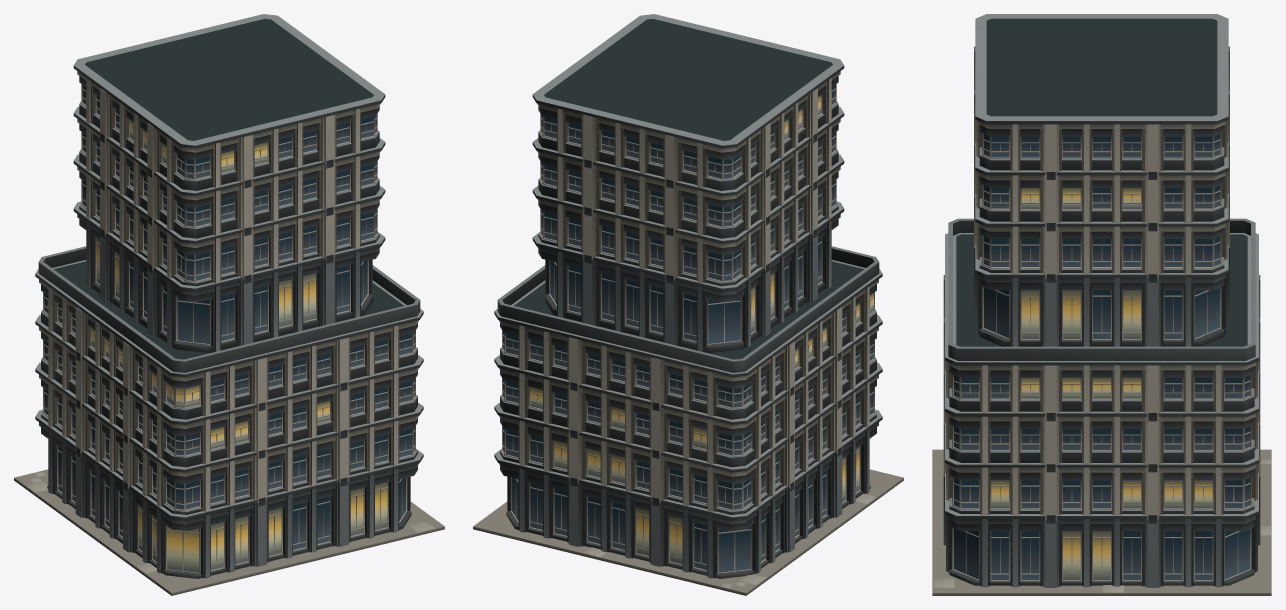
The model's file is Building_14D.fbx.
3 renders of one model, left to right at view 1: azimuth 30°, elevation 25°; view 2: azimuth 150°, elevation 25°; view 3: azimuth 270°, elevation 25°, orthographic. The views are drawn at different scales.
Parts seen in each view (by area): view 1: Building_14D, Window_Lights_14D; view 2: Building_14D, Window_Lights_14D; view 3: Building_14D, Window_Lights_14D.
Boxes of the visible parts, x1,y1,x2,y2 form: Building_14D: (14, 14, 444, 595); Window_Lights_14D: (91, 119, 387, 572); Building_14D: (473, 14, 903, 595); Window_Lights_14D: (530, 95, 873, 564); Building_14D: (932, 14, 1271, 595); Window_Lights_14D: (991, 188, 1212, 579).
Size of the model in its own units: 3000 by 4460 by 3000.
